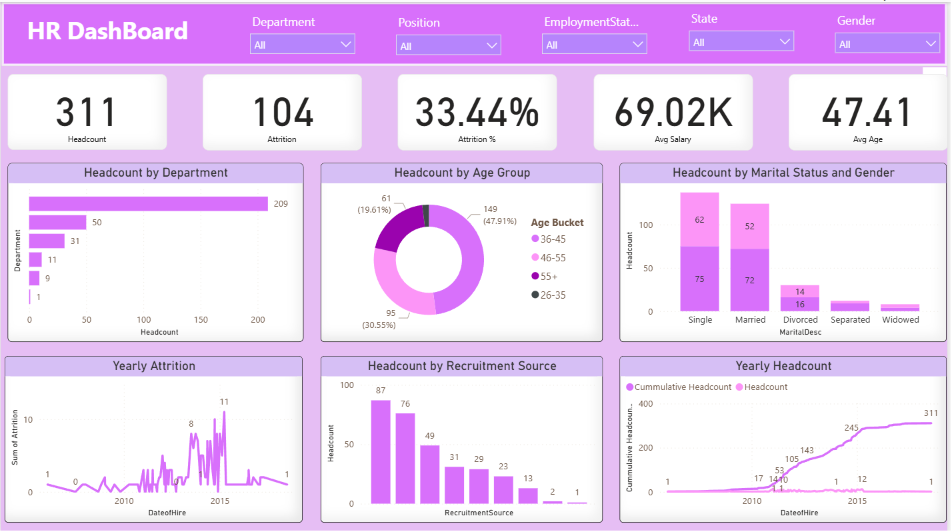

The page's visual inventory and layout, read from the dashboard file:
{"tool":"powerbi","page":{"name":"Page 1","canvas":[1280,720],"ordinal":0},"visuals":[{"type":"shape","box":[1.5,0,1278,86.3],"z":0},{"type":"card","fields":{"Values":["Measure.Headcount"]},"box":[9.1,96.9,215,103],"z":1000},{"type":"card","fields":{"Values":["Measure.Attrition"]},"box":[273.1,96.9,215,103],"z":2000},{"type":"card","fields":{"Values":["Measure.Attrition %"]},"box":[537.1,96.9,215,103],"z":3000},{"type":"card","fields":{"Values":["Measure.Avg Salary"]},"box":[801,96.9,215,103],"z":4000},{"type":"card","fields":{"Values":["Measure.Avg Age"]},"box":[1065,96.9,215,103],"z":5000},{"type":"clusteredBarChart","fields":{"Y":["Measure.Headcount"],"Category":["HRDataset_v14.Department"]},"box":[9.1,218,399.8,242.3],"z":6000},{"type":"donutChart","title":"Headcount by Age Group","fields":{"Category":["HRDataset_v14.Age Bucket"],"Y":["Measure.Headcount"]},"box":[432.3,218,381.6,242.3],"z":7000},{"type":"columnChart","title":"Headcount by Marital Status and Gender","fields":{"Category":["HRDataset_v14.MaritalDesc"],"Y":["Measure.Headcount"],"Series":["HRDataset_v14.Gender"]},"box":[837.4,218,442.1,242.3],"z":8000},{"type":"lineChart","title":"Yearly Headcount","fields":{"Category":["HRDataset_v14.DateofHire"],"Y":["Measure.Cummulative Headcount","Measure.Headcount"]},"box":[837.4,478.5,442.1,225.6],"z":9000},{"type":"lineChart","title":"Yearly Attrition","fields":{"Y":["Sum(HRDataset_v14.Attrition)"],"Category":["HRDataset_v14.DateofHire"]},"box":[6.1,478.5,402.8,225.6],"z":10000},{"type":"columnChart","title":"Headcount by Recruitment Source","fields":{"Y":["Measure.Headcount"],"Category":["HRDataset_v14.RecruitmentSource"]},"box":[432.3,478.5,381.6,225.6],"z":11000},{"type":"slicer","fields":{"Values":["HRDataset_v14.Department"]},"box":[327.1,9.1,162,65.1],"z":12000},{"type":"slicer","fields":{"Values":["HRDataset_v14.Position"]},"box":[524.7,10.6,162,65.1],"z":13000},{"type":"slicer","fields":{"Values":["HRDataset_v14.EmploymentStatus"]},"box":[722.3,9.1,162,65.1],"z":14000},{"type":"slicer","fields":{"Values":["HRDataset_v14.State"]},"box":[919.9,6.1,162,65.1],"z":15000},{"type":"slicer","fields":{"Values":["HRDataset_v14.Gender"]},"box":[1117.5,7.6,162,65.1],"z":16000},{"type":"textbox","box":[1.5,10.6,286.2,75.7],"z":17000}]}

Visuals, with their boxes in screenshot pixels (x1, y1, x2, y2), scaled from the page's 1280x720 canvas onto the 951x531 screenshot:
shape: region(1, 0, 950, 64)
card - Measure.Headcount: region(7, 71, 166, 147)
card - Measure.Attrition: region(203, 71, 363, 147)
card - Measure.Attrition %: region(399, 71, 559, 147)
card - Measure.Avg Salary: region(595, 71, 755, 147)
card - Measure.Avg Age: region(791, 71, 950, 147)
clusteredBarChart - Measure.Headcount x HRDataset_v14.Department: region(7, 161, 304, 339)
"Headcount by Age Group" donutChart: region(321, 161, 605, 339)
"Headcount by Marital Status and Gender" columnChart: region(622, 161, 950, 339)
"Yearly Headcount" lineChart: region(622, 353, 950, 519)
"Yearly Attrition" lineChart: region(5, 353, 304, 519)
"Headcount by Recruitment Source" columnChart: region(321, 353, 605, 519)
slicer - HRDataset_v14.Department: region(243, 7, 363, 55)
slicer - HRDataset_v14.Position: region(390, 8, 510, 56)
slicer - HRDataset_v14.EmploymentStatus: region(537, 7, 657, 55)
slicer - HRDataset_v14.State: region(683, 4, 804, 53)
slicer - HRDataset_v14.Gender: region(830, 6, 950, 54)
textbox: region(1, 8, 214, 64)
